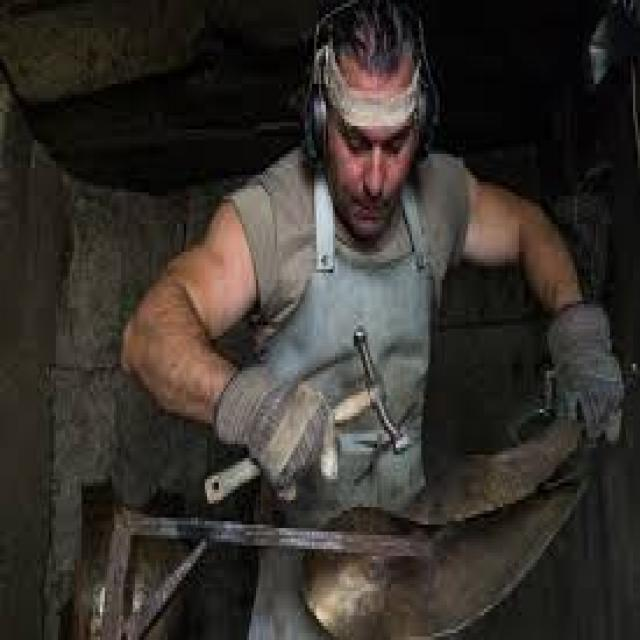hammer: (201, 312, 427, 506)
